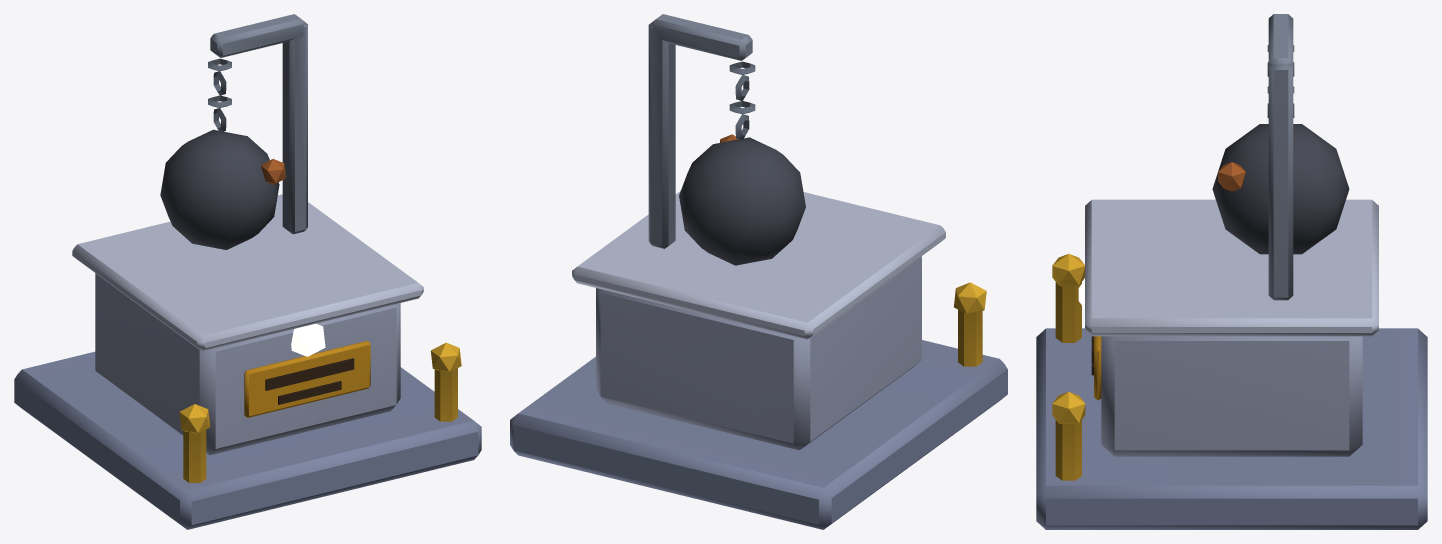
The model's file is b_trophy_rost.glb.
3 views of the same model, side by side, from view 1: azimuth 30°, elevation 25°; view 2: azimuth 150°, elevation 25°; view 3: azimuth 270°, elevation 25° (orthographic). The views are drawn at different scales.
Visible parts, largest first — view 1: body, pulse_gem_glow; view 2: body; view 3: body.
Boxes of the visible parts, x1,y1,x2,y2 form: body: (14, 14, 481, 529); pulse_gem_glow: (291, 323, 325, 356); body: (510, 14, 1007, 529); body: (1036, 14, 1427, 529).
Bounding box in the file's own units: 2.4 × 2.92 × 2.4.
